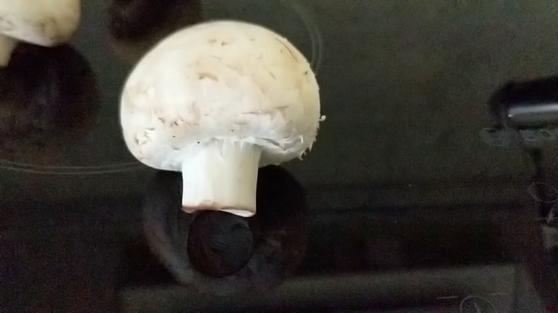champignon: (121, 17, 327, 222)
